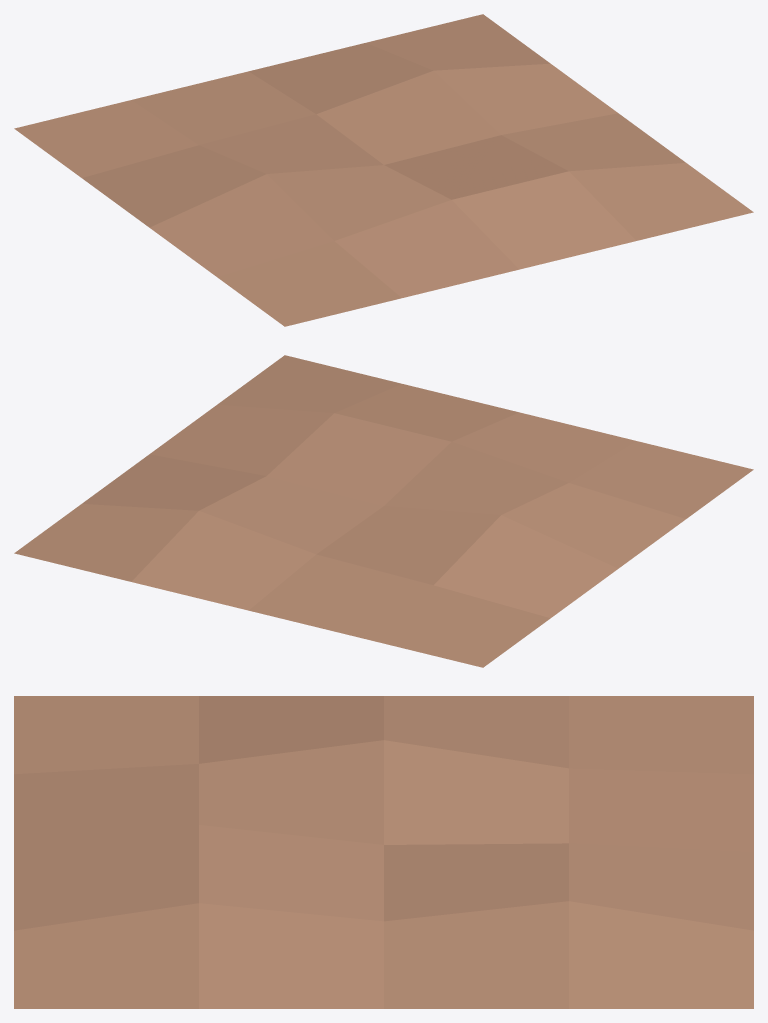
The model's file is Tile_09_Dirt_Red.glb.
The picture shows the model from 3 angles, top to bottom: view 1: azimuth 30°, elevation 25°; view 2: azimuth 150°, elevation 25°; view 3: azimuth 270°, elevation 25°; orthographic projection. The views are drawn at different scales.
Parts seen in each view (by area): view 1: Tile_Dirt_Red; view 2: Tile_Dirt_Red; view 3: Tile_Dirt_Red.
Part boxes in pixels (left/top/right/bottom): Tile_Dirt_Red: left=14, top=14, right=753, bottom=326; Tile_Dirt_Red: left=14, top=355, right=753, bottom=667; Tile_Dirt_Red: left=14, top=696, right=753, bottom=1008.
Size of the model in its own units: 0.2 by 0.0102 by 0.2.
